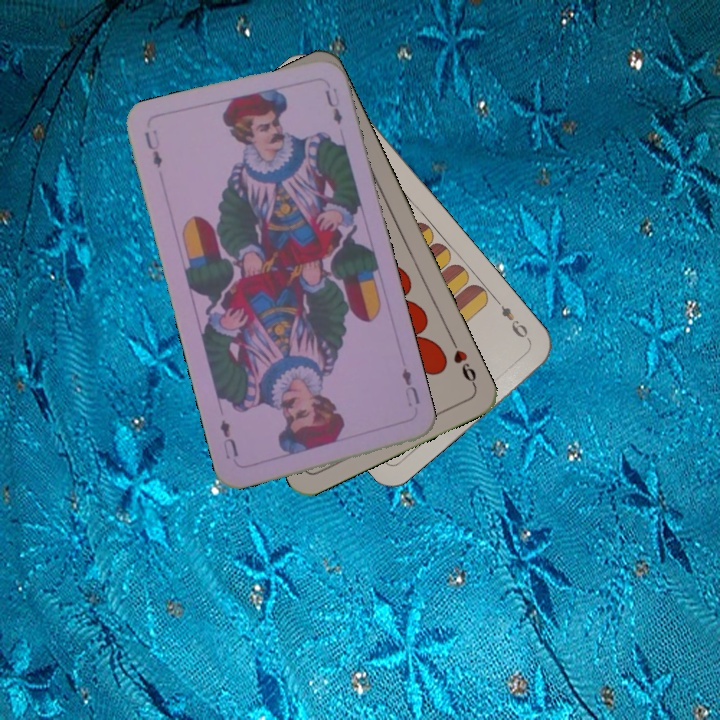E9: (491, 295, 533, 345)
EU: (140, 125, 165, 171), (398, 364, 423, 407)
H9: (447, 334, 479, 390)
